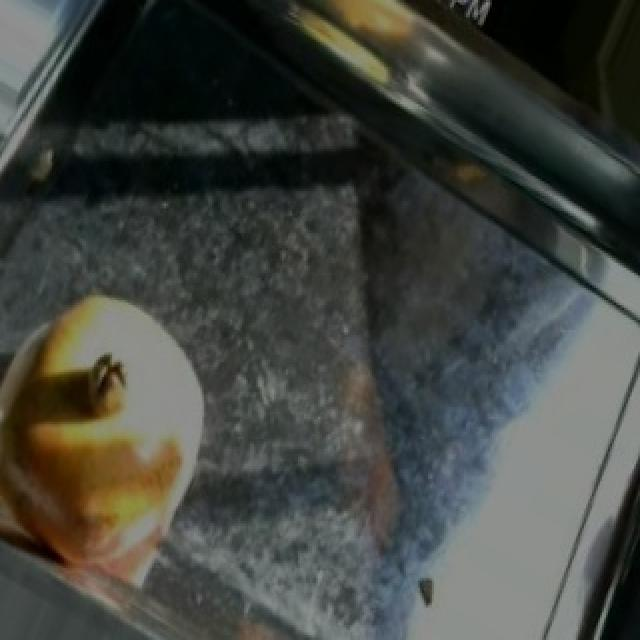fruit: (0, 345, 222, 598)
